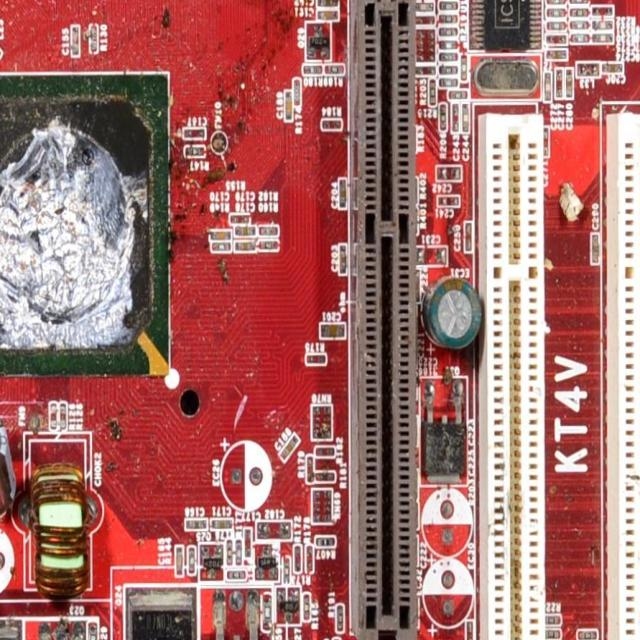IC: (465, 0, 541, 51)
capacitor: (256, 518, 291, 541), (318, 322, 348, 338), (436, 165, 462, 181), (185, 516, 207, 533), (233, 236, 256, 252), (436, 194, 460, 209), (461, 221, 472, 253), (283, 90, 295, 119), (590, 231, 601, 262), (548, 46, 570, 61), (71, 24, 81, 56), (544, 70, 553, 105), (315, 7, 339, 20), (337, 177, 347, 208), (545, 31, 568, 44), (339, 243, 348, 276), (450, 103, 460, 132), (592, 31, 614, 44), (565, 69, 574, 97), (461, 105, 470, 133), (244, 525, 252, 556), (593, 5, 613, 17), (593, 18, 613, 30), (182, 128, 206, 138), (556, 70, 564, 99), (210, 518, 233, 528), (234, 226, 257, 236), (176, 545, 183, 577), (601, 64, 623, 74), (316, 0, 342, 8)
connector: (351, 0, 422, 640), (479, 113, 546, 640), (607, 113, 640, 640)
resistor: (313, 444, 337, 458), (570, 28, 591, 44), (294, 77, 304, 109), (305, 544, 315, 573), (437, 102, 447, 131), (210, 240, 232, 253), (260, 237, 280, 251), (315, 471, 338, 483), (570, 6, 591, 19), (570, 19, 590, 32), (302, 62, 323, 74), (321, 118, 342, 130), (89, 23, 98, 50), (186, 546, 194, 576), (440, 25, 458, 38), (186, 144, 204, 157), (303, 591, 311, 620), (336, 603, 344, 632), (461, 54, 469, 83), (546, 16, 565, 28), (316, 536, 336, 547), (225, 539, 233, 566), (295, 545, 302, 574), (325, 65, 345, 75), (440, 0, 458, 11), (545, 5, 563, 16), (440, 39, 458, 50), (230, 211, 248, 222), (306, 454, 313, 482), (545, 627, 560, 640), (449, 89, 468, 99), (578, 630, 597, 639), (440, 13, 457, 23), (429, 80, 435, 108), (260, 225, 278, 234), (235, 539, 242, 561), (439, 77, 456, 86), (440, 64, 459, 72), (545, 613, 560, 623), (440, 52, 458, 59), (570, 0, 590, 5), (546, 0, 566, 2), (332, 636, 339, 640)
transistor: (200, 585, 274, 640), (123, 585, 197, 640), (24, 620, 98, 640), (0, 620, 25, 640)
